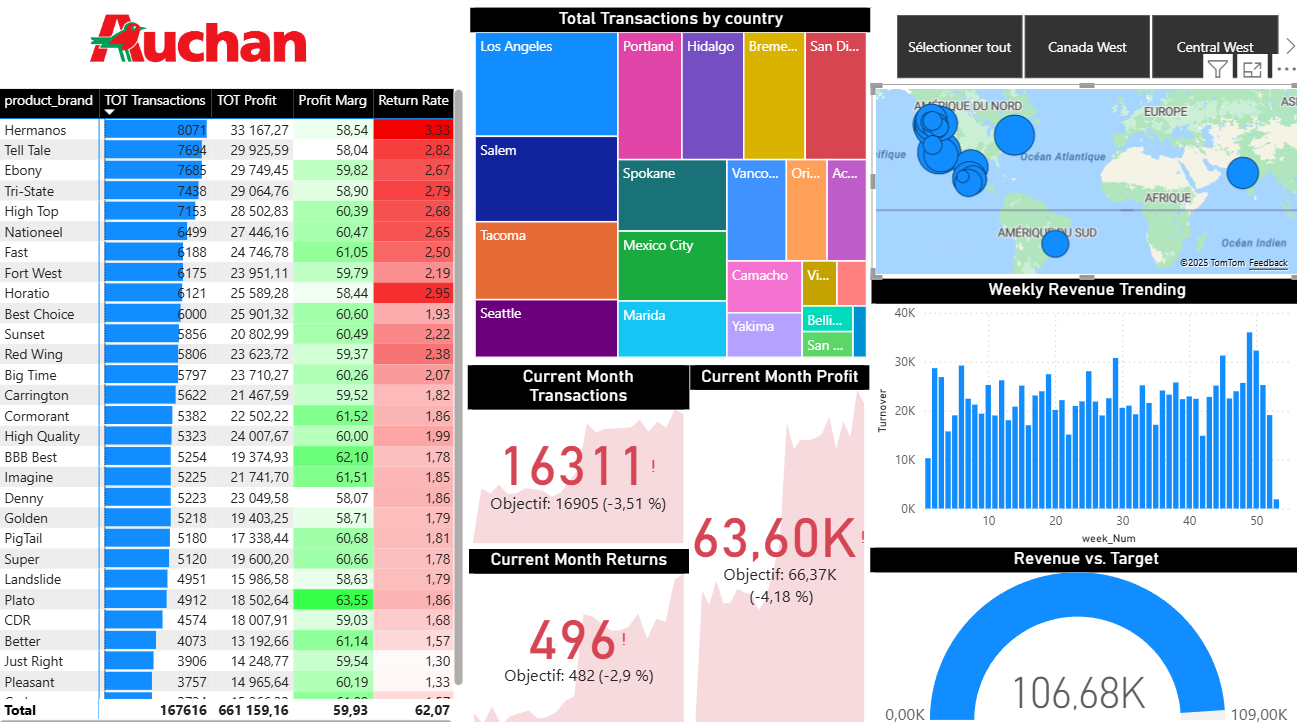

Layout of this report page (visuals, bound fields, positions):
{"tool":"powerbi","page":{"name":"Page 1","canvas":[1280,720],"ordinal":0},"visuals":[{"type":"pivotTable","fields":{"Rows":["Products.product_brand"],"Values":["Transaction.TOT Transactions","Transaction.TOT Profit","Transaction.Profit Marg","Returns_1997-1998.Return Rate"]},"box":[0,88.4,463.8,635.5],"z":0},{"type":"kpi","title":"Current Month Transactions","fields":{"Indicator":["Transaction.TOT Transactions"],"TrendLine":["Calendar.Start_Month"],"Goal":["Transaction.Last_Months_Transac"]},"box":[463.8,362.6,216.5,179.4],"z":1000},{"type":"kpi","title":"Current Month Profit ","fields":{"Indicator":["Transaction.TOT Profit"],"TrendLine":["Calendar.Start_Month"],"Goal":["Transaction.Last_Mnth_Profit"]},"box":[681.3,363.1,175.6,358.6],"z":2000},{"type":"kpi","title":"Current Month Returns","fields":{"TrendLine":["Calendar.Start_Month"],"Indicator":["Returns_1997-1998.ALL Returnns"],"Goal":["Returns_1997-1998.Last_Mnth_Returns"]},"box":[465.1,543.3,215.3,176.8],"z":3000},{"type":"azureMap","fields":{"Category":["Regions.sales_district"],"Size":["Transaction.TOT Transactions"]},"box":[857.9,87.9,422.1,190.6],"z":4000},{"type":"treemap","title":"Total Transactions by country","fields":{"Values":["Transaction.TOT Transactions"],"Group":["Regions.sales_district"]},"box":[465.7,12.9,392.9,347.1],"z":5000},{"type":"slicer","fields":{"Values":["Regions.sales_region"]},"box":[857.1,12.9,422.9,75.7],"z":6000},{"type":"columnChart","title":"Weekly Revenue Trending","fields":{"Y":["Transaction.Turnover"],"Category":["Calendar.week_Num"]},"box":[858.4,279.1,422,264.6],"z":7000},{"type":"gauge","title":"Revenue vs. Target","fields":{"Y":["Transaction.Turnover"]},"box":[856.8,541.7,423.2,178.6],"z":8000},{"type":"image","box":[0,13.5,399.2,60],"z":9000}]}

Visuals, with their boxes in screenshot pixels (x1, y1, x2, y2), scaled from the page's 1280x720 canvas onto the 1297x722 screenshot:
pivotTable - Products.product_brand x Transaction.TOT Transactions: BBox(0, 89, 470, 721)
"Current Month Transactions" kpi: BBox(470, 364, 689, 544)
"Current Month Profit " kpi: BBox(690, 364, 868, 721)
"Current Month Returns" kpi: BBox(471, 545, 689, 721)
azureMap - Regions.sales_district x Transaction.TOT Transactions: BBox(869, 88, 1296, 279)
"Total Transactions by country" treemap: BBox(472, 13, 870, 361)
slicer - Regions.sales_region: BBox(868, 13, 1296, 89)
"Weekly Revenue Trending" columnChart: BBox(870, 280, 1296, 545)
"Revenue vs. Target" gauge: BBox(868, 543, 1296, 721)
image: BBox(0, 14, 405, 74)
